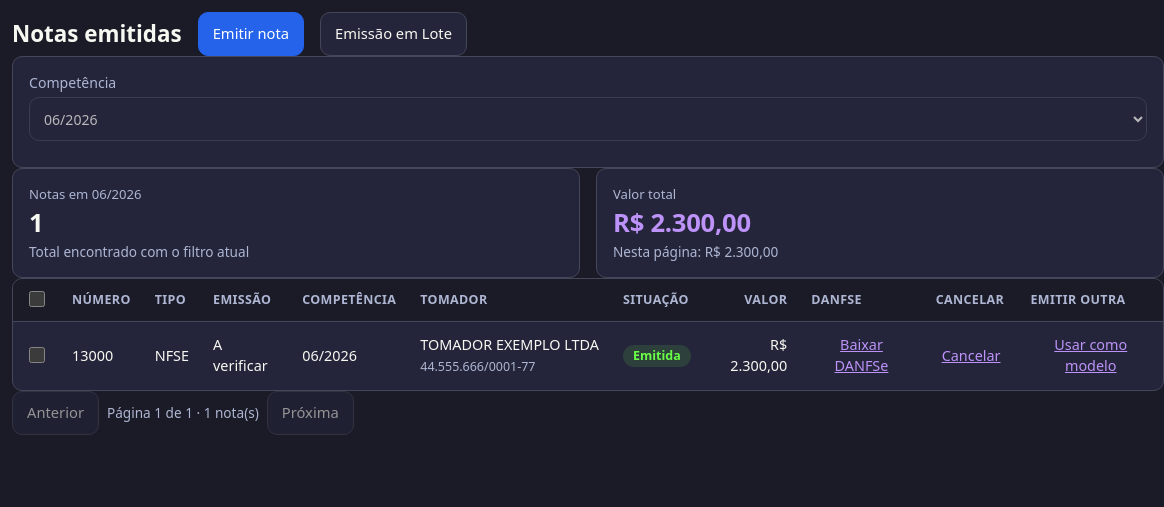
Test case: falha ao ler detalhe conserva a lista e permite tentar novamente
Click the button "Usar como modelo" at (1091, 356), box [1030,331,1151,381]
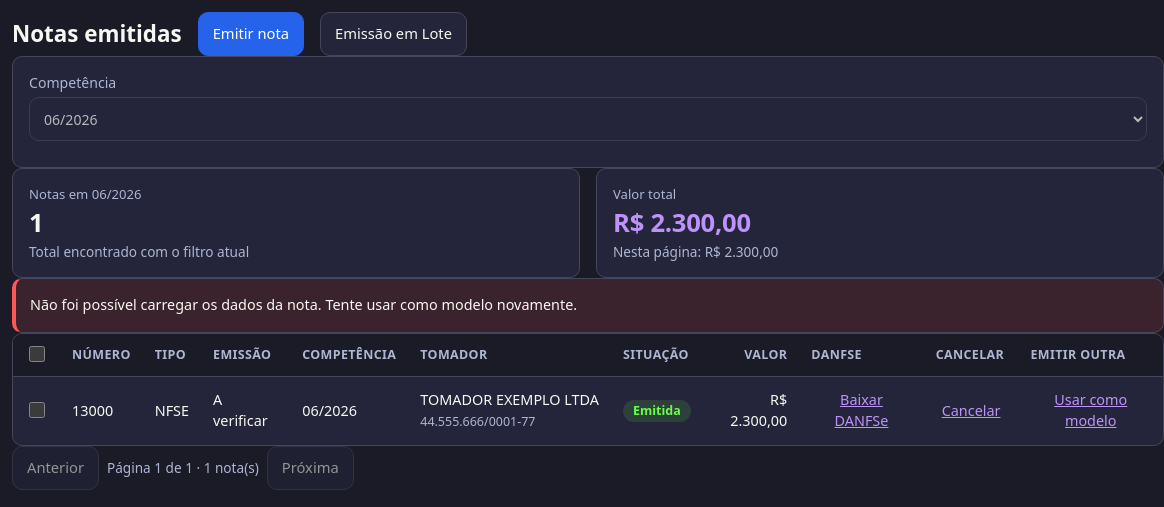
Expected: the button "Usar como modelo" is enabled, [1030,386,1151,436]
Expected: the text "Não foi possível carregar os dados da nota" is shown, [30,295,577,314]
